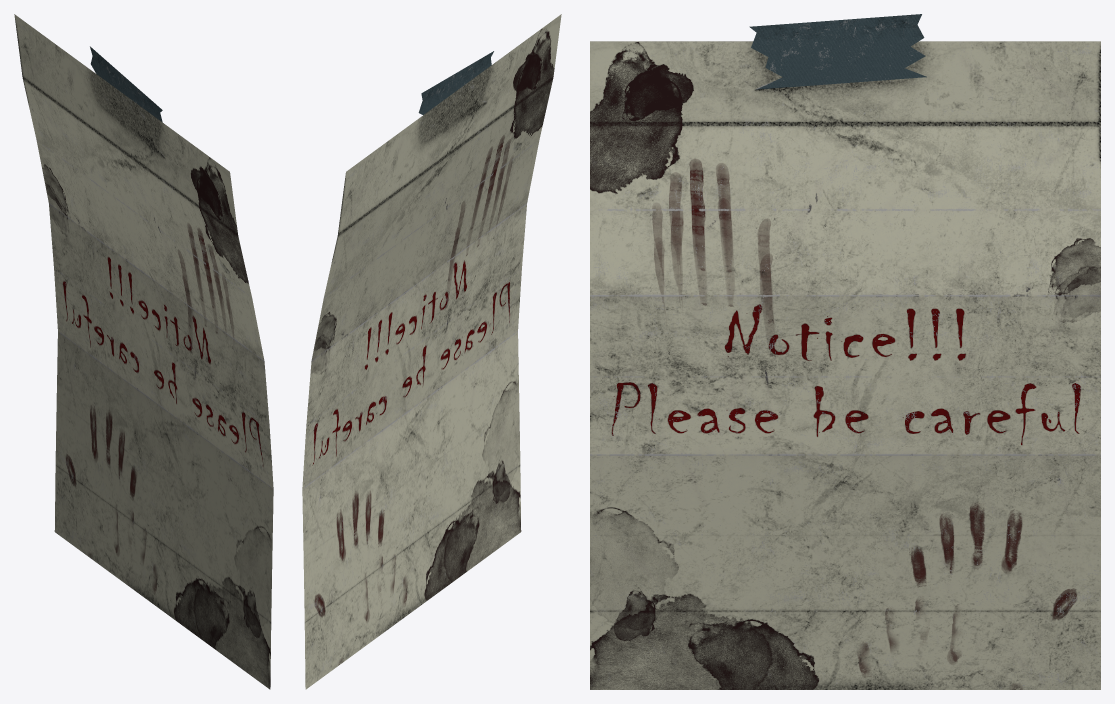
Rendered from note.fbx.
3 views of the same model, side by side, from view 1: azimuth 30°, elevation 25°; view 2: azimuth 150°, elevation 25°; view 3: azimuth 270°, elevation 25° (orthographic). The views are drawn at different scales.
Visible parts, largest first — view 1: Note01, Note; view 2: Note01, Note; view 3: Note01, Note.
Part boxes in pixels (left/top/right/bottom): Note01: left=14, top=14, right=273, bottom=689; Note: left=90, top=46, right=162, bottom=122; Note01: left=302, top=14, right=561, bottom=689; Note: left=418, top=51, right=493, bottom=114; Note01: left=590, top=41, right=1100, bottom=689; Note: left=749, top=14, right=926, bottom=89.
Size of the model in its own units: 9.12 by 110 by 78.09.
Materials: 1 (1 with a texture image).
